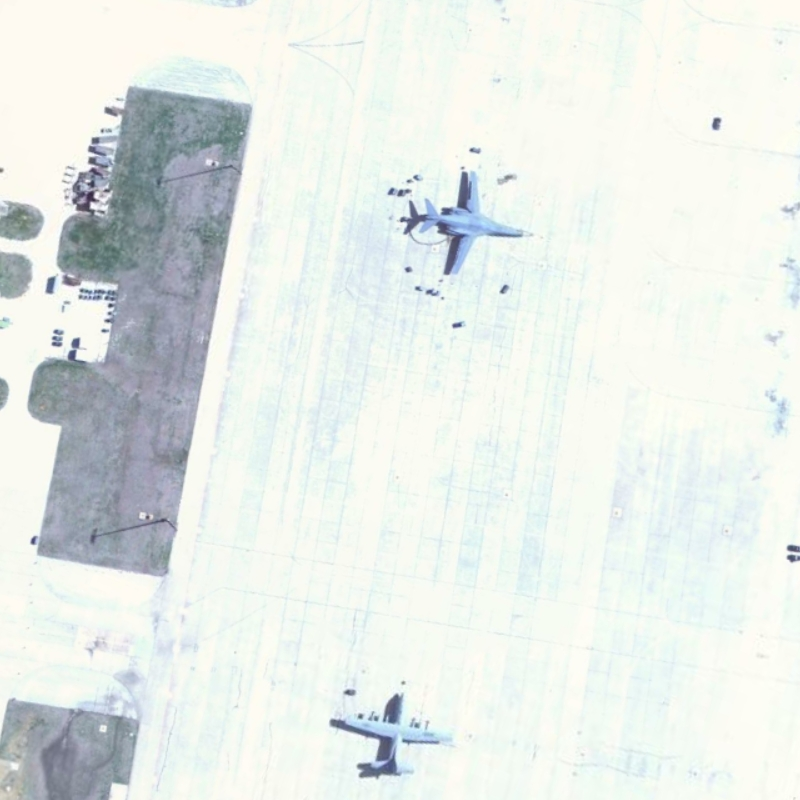A10: (400, 165, 538, 286)
A2: (325, 680, 453, 779)
